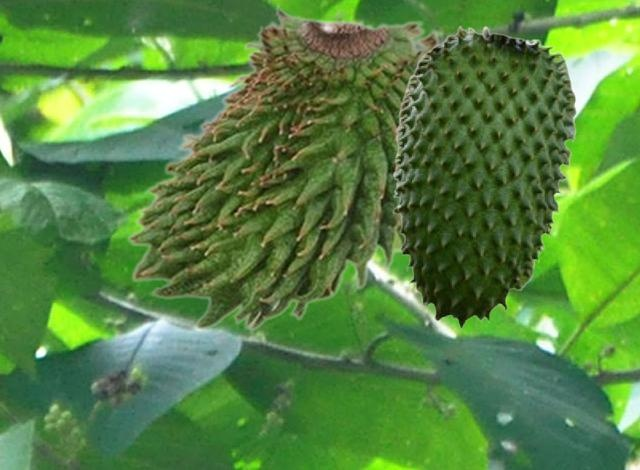guyabano: (125, 3, 443, 330), (392, 25, 576, 328)
